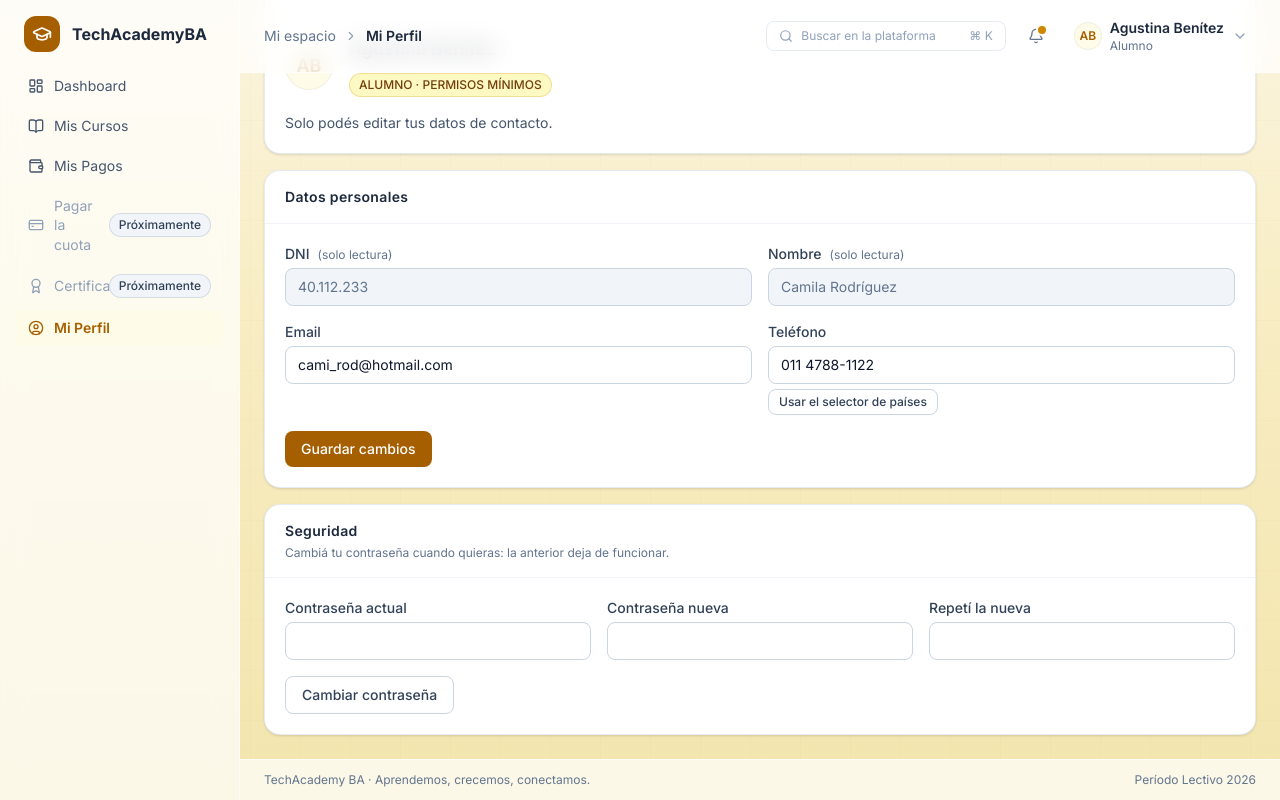
Test case: tarjeta de seguridad › rechaza la contraseña actual incorrecta
(page scrolled)
Expected: the field showing "cami_rod@hotmail.com" is shown, [285, 346, 752, 384]
Step 1. Type "NoEsLaClave" into the password field labelled "Contraseña actual" → (438, 641), box [285, 622, 591, 660]
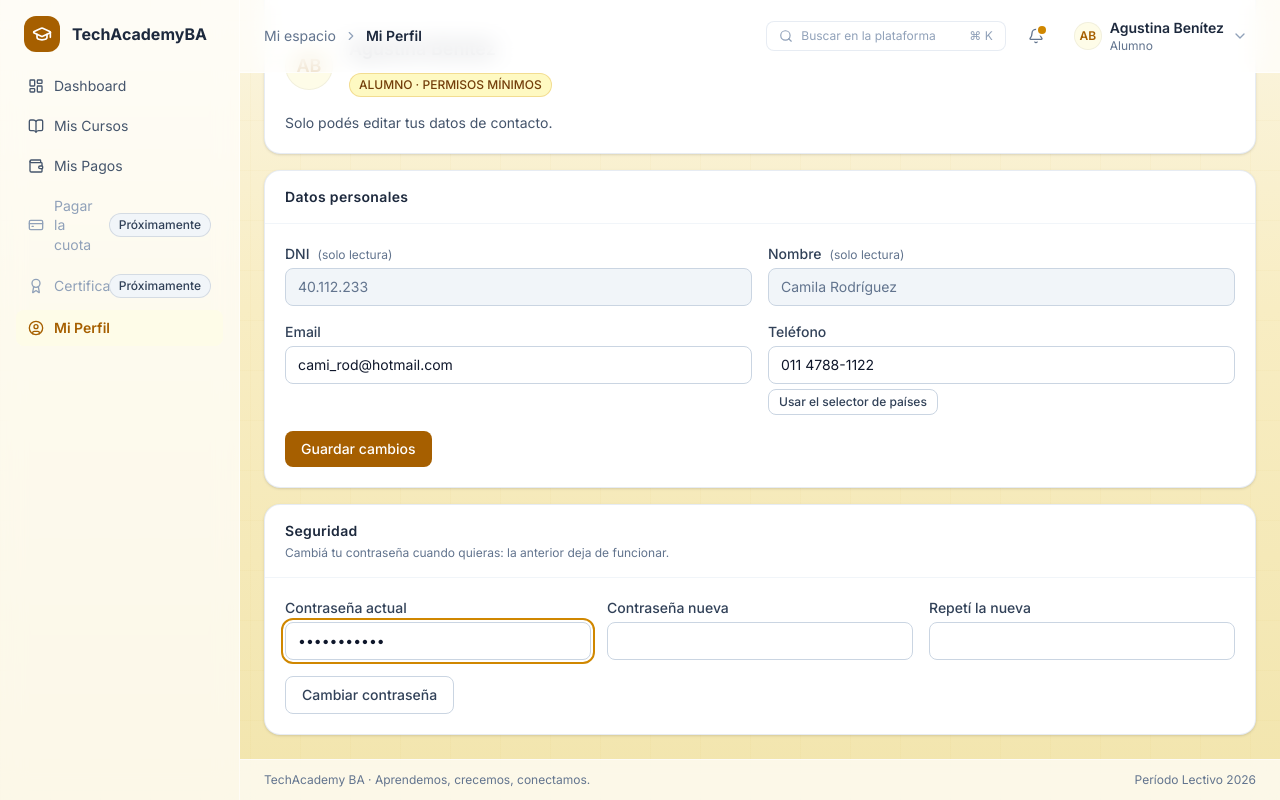
Step 2. Type "NuevaClave1" into the password field labelled "Contraseña nueva" → (760, 641), box [607, 622, 913, 660]
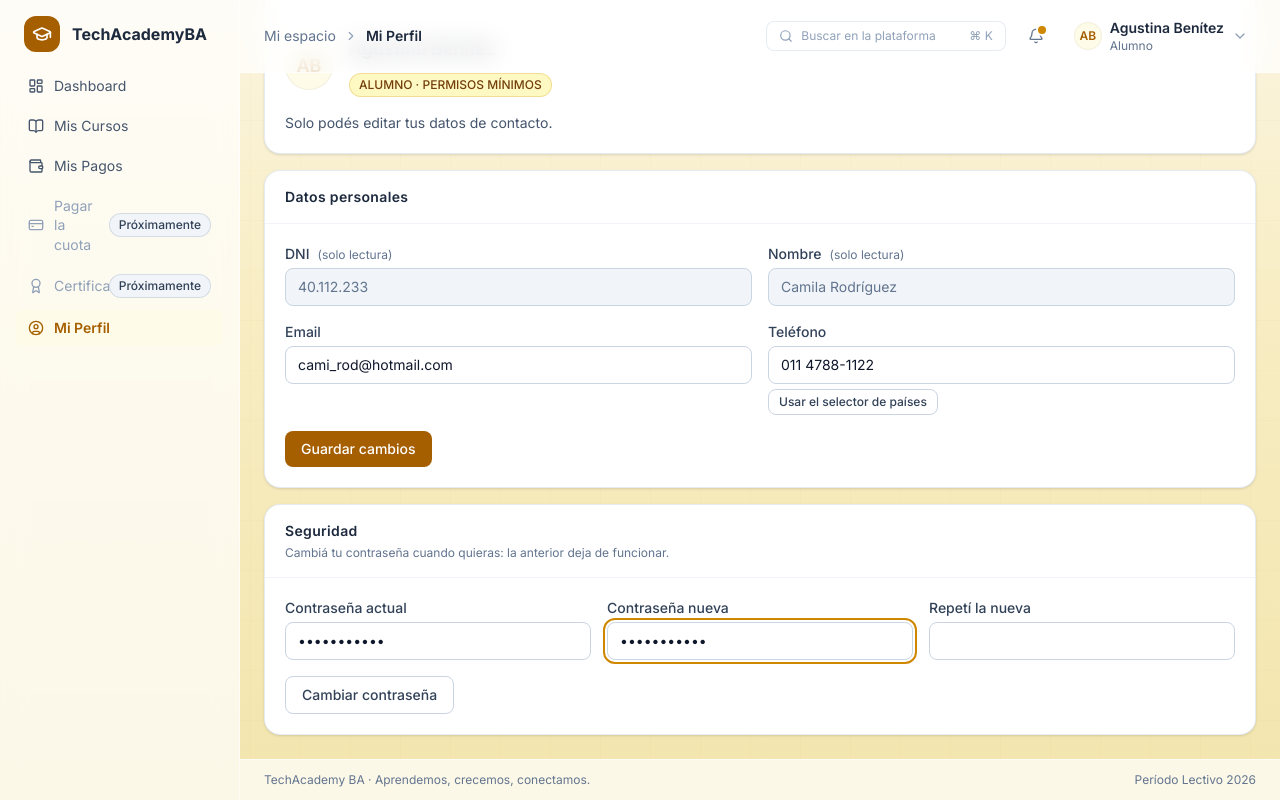
Step 3. Type "NuevaClave1" into the password field labelled "Repetí la nueva" → (1082, 641), box [929, 622, 1235, 660]
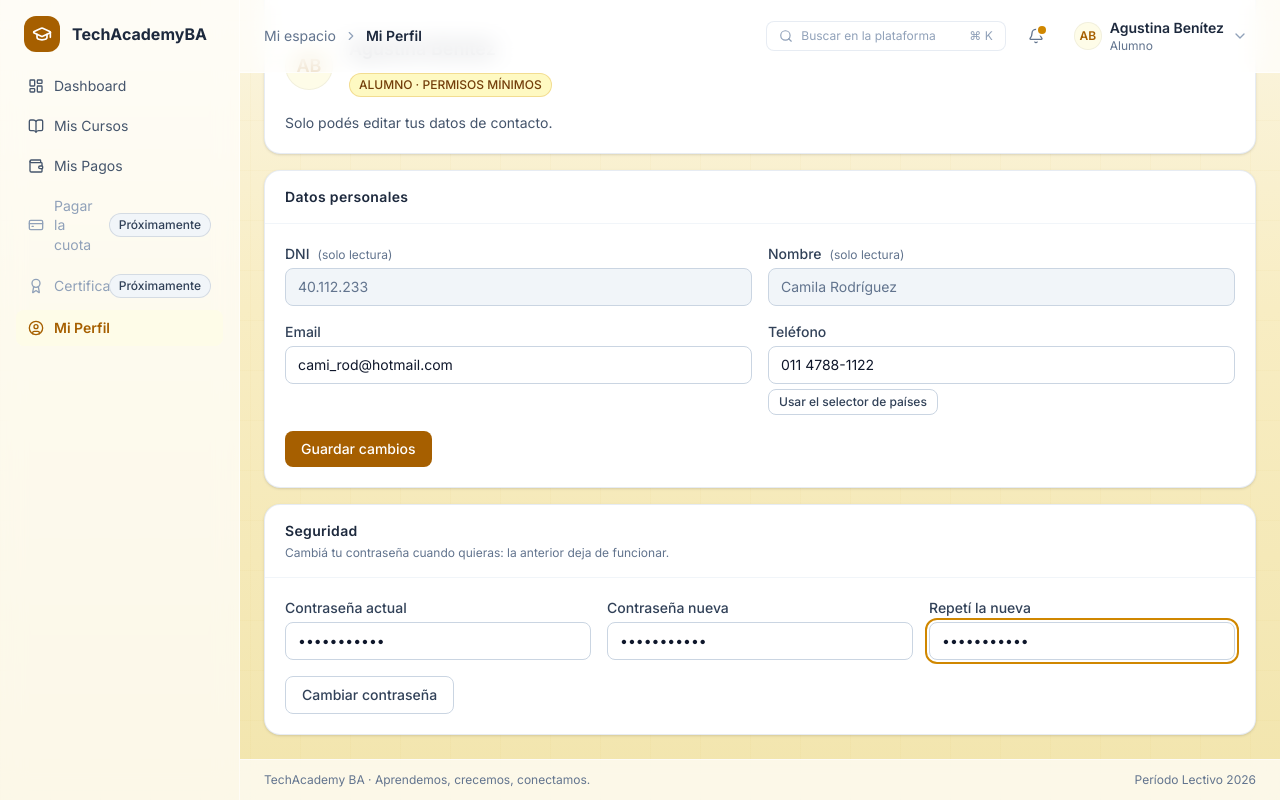
Step 4. Click the button "Cambiar contraseña" → (370, 695), box [285, 676, 454, 714]
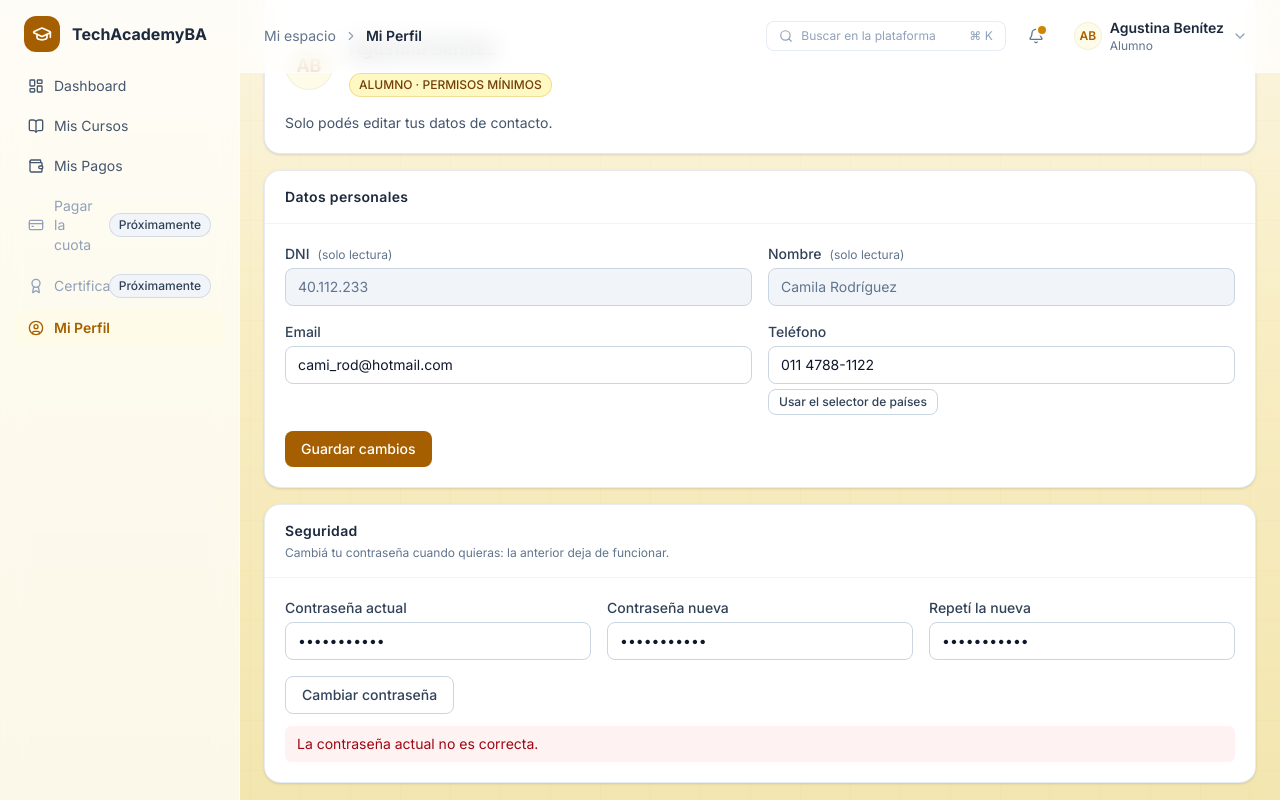
Now the message reads "La contraseña actual no es correcta.", box [297, 735, 538, 752]
